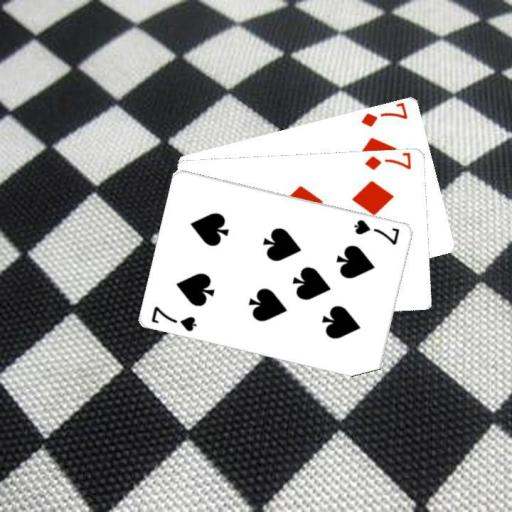7D: (358, 101, 410, 128), (362, 152, 413, 171)
7S: (148, 302, 199, 333), (351, 216, 402, 246)
